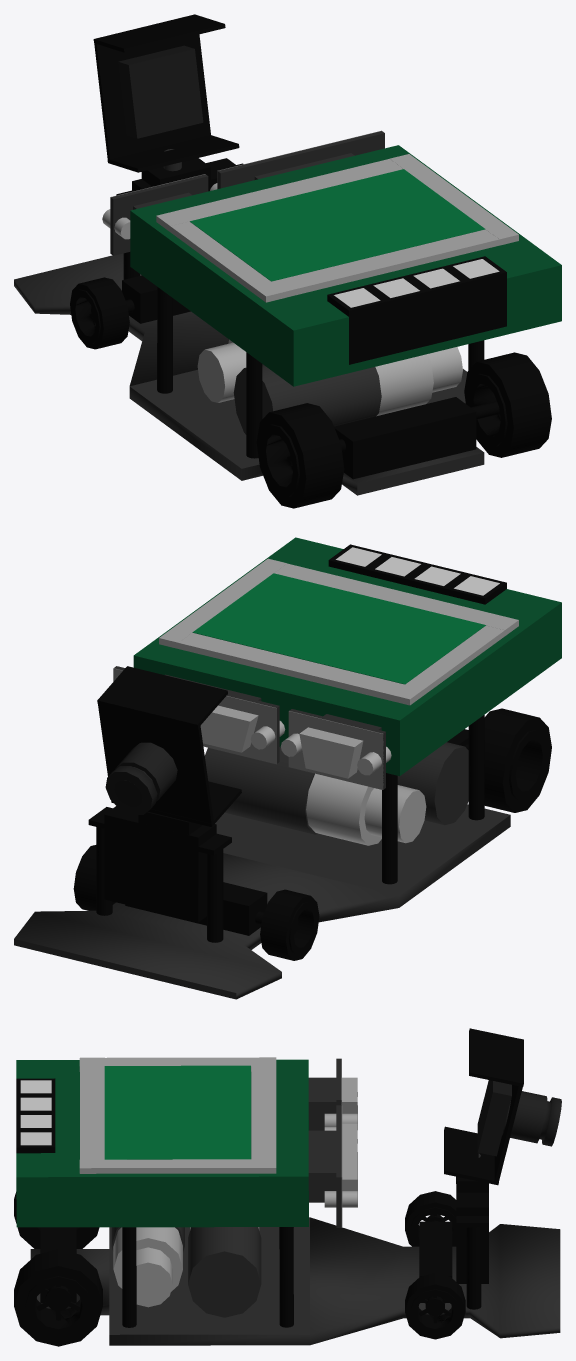
File: Ackermann.obj
3 renders of one model, top to bottom at view 1: azimuth 30°, elevation 25°; view 2: azimuth 150°, elevation 25°; view 3: azimuth 270°, elevation 25°, orthographic. The views are drawn at different scales.
Parts seen in each view (by area): view 1: ModelCar.ms3d.mo_ModelCar.ms3d.m; view 2: ModelCar.ms3d.mo_ModelCar.ms3d.m; view 3: ModelCar.ms3d.mo_ModelCar.ms3d.m.
Boxes of the visible parts, x1,y1,x2,y2 form: ModelCar.ms3d.mo_ModelCar.ms3d.m: (14, 14, 561, 508); ModelCar.ms3d.mo_ModelCar.ms3d.m: (14, 537, 561, 999); ModelCar.ms3d.mo_ModelCar.ms3d.m: (14, 1028, 561, 1346).
Bounding box in the file's own units: 0.1159 × 0.1106 × 0.2264.
